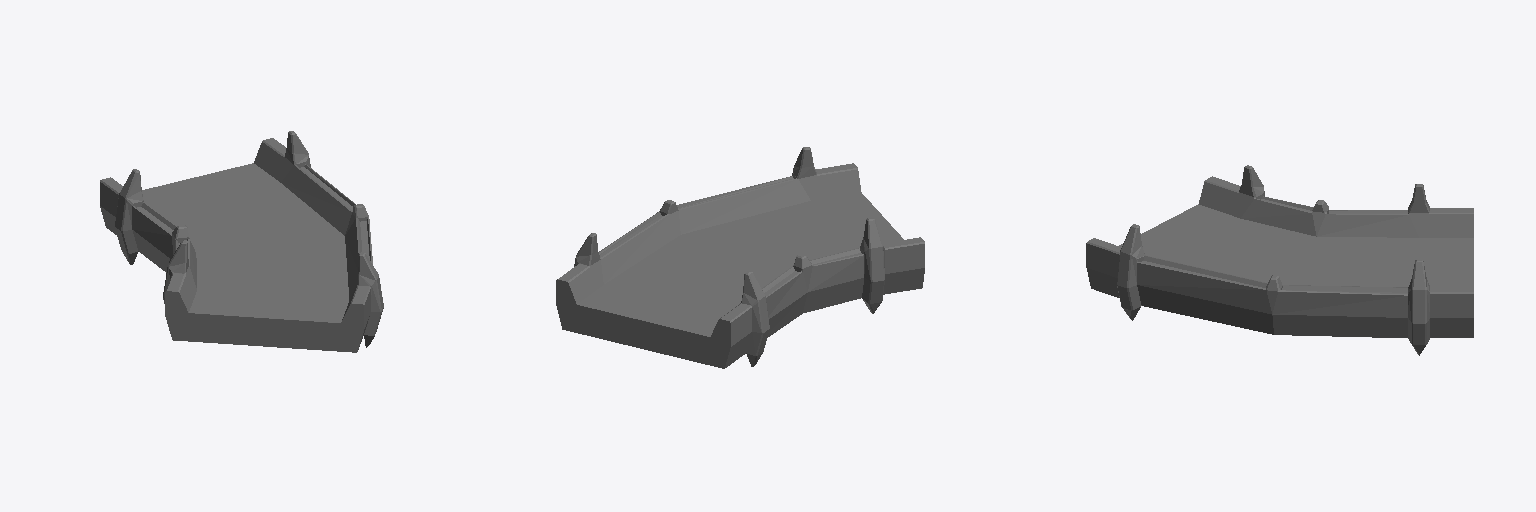
File: SkyRoadCurve.obj
The picture shows the model from 3 angles: view 1: azimuth 30°, elevation 25°; view 2: azimuth 150°, elevation 25°; view 3: azimuth 270°, elevation 25°; orthographic projection.
Parts seen in each view (by area): view 1: pCube25; view 2: pCube25; view 3: pCube25.
Boxes of the visible parts, x1=… form: pCube25: x1=100, y1=131, x2=383, y2=352; pCube25: x1=556, y1=147, x2=924, y2=368; pCube25: x1=1086, y1=165, x2=1473, y2=355.
Size of the model in its own units: 11.11 by 4.04 by 15.02.